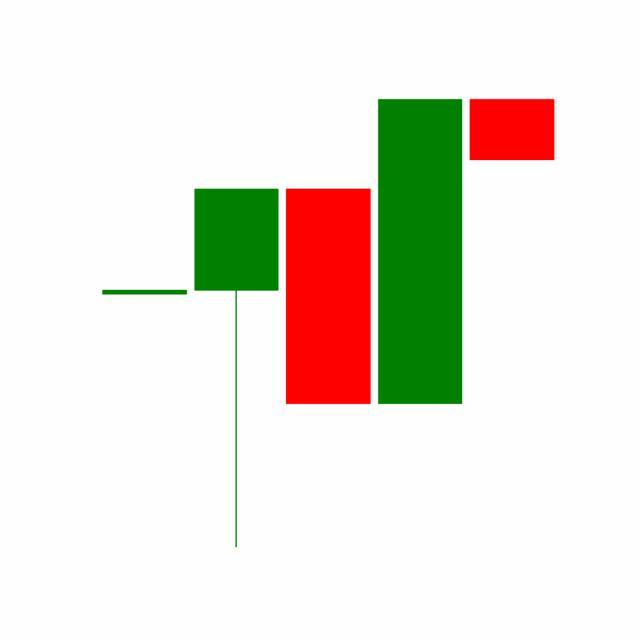Marubozu: (374, 96, 468, 407)
